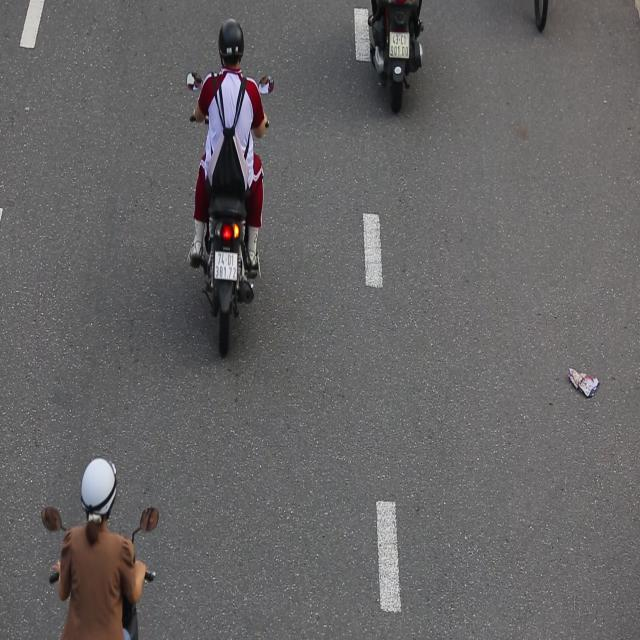motorbike: (180, 7, 278, 357)
